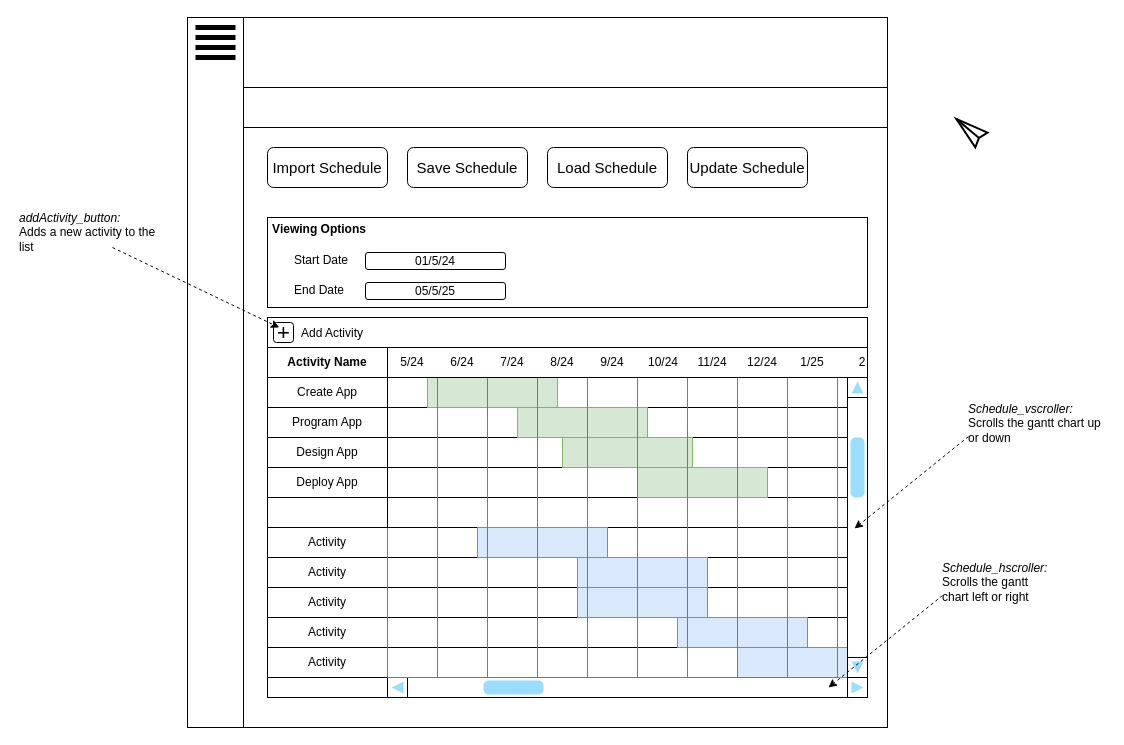
The diagram is 1124 pixels wide and 745 high, and some of its shapes have lost their labels. Each missing label, with the centre of its shape:
"Schedule Optimizer" goes at pixel 565 52.
"Schedule Viewer" goes at pixel 565 107.
